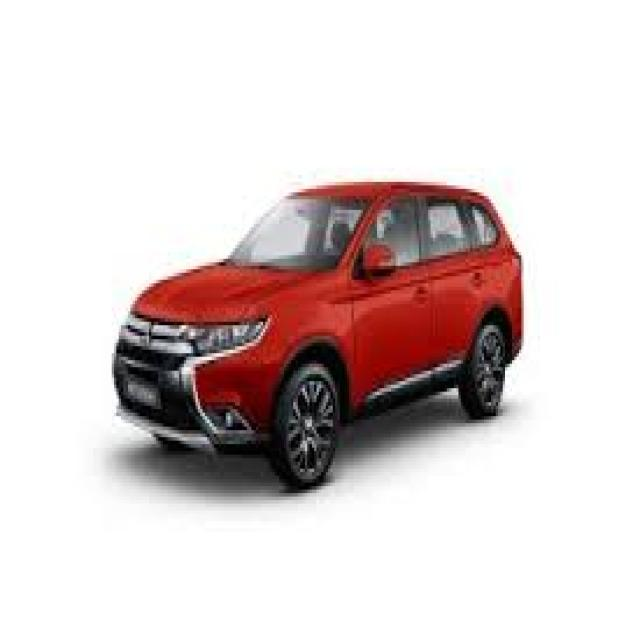light_vehicle: (111, 175, 524, 493)
